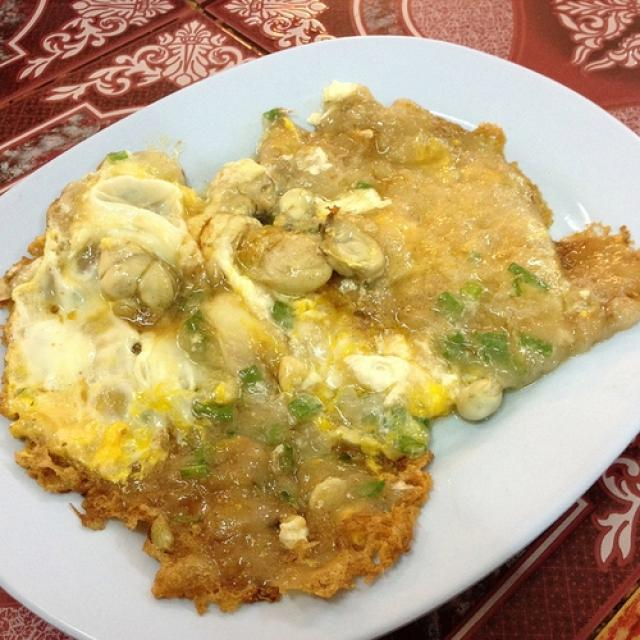炸货点心: (4, 37, 621, 616)
蛋糕甜品: (4, 37, 621, 616)
